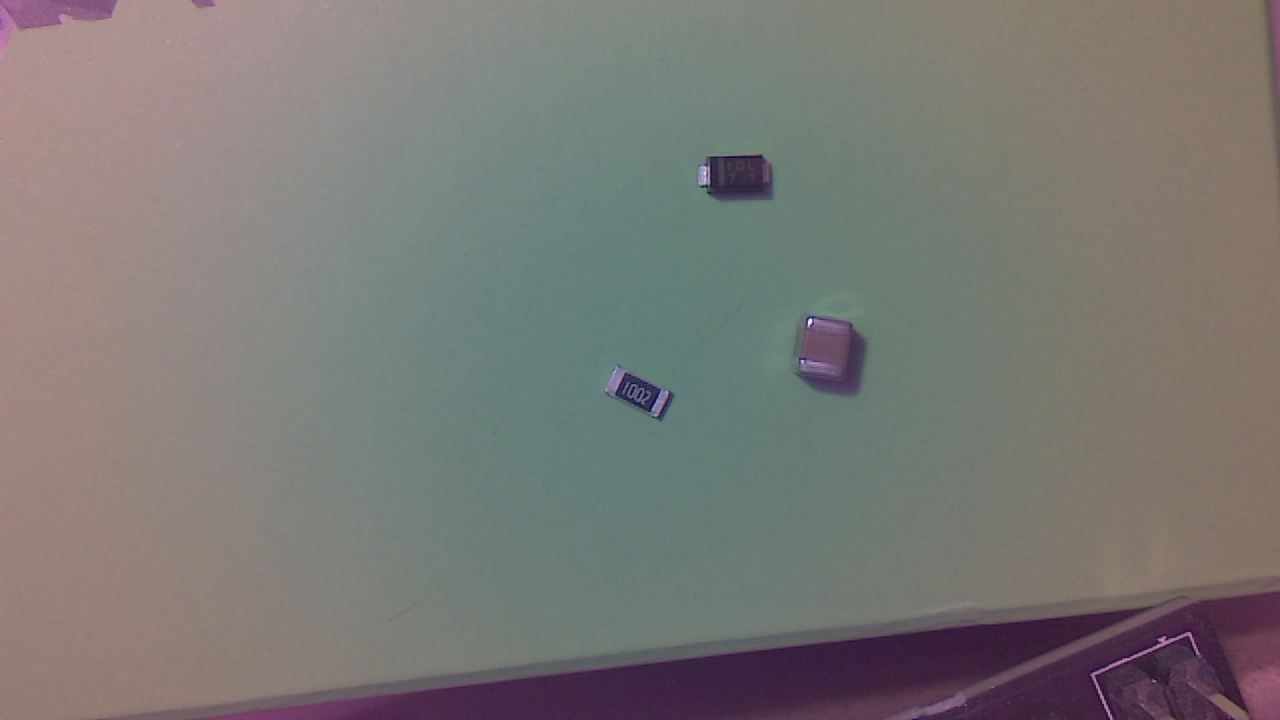Condensator: (793, 309, 871, 386)
Diode: (702, 158, 781, 201)
Resistor: (610, 372, 678, 422)
